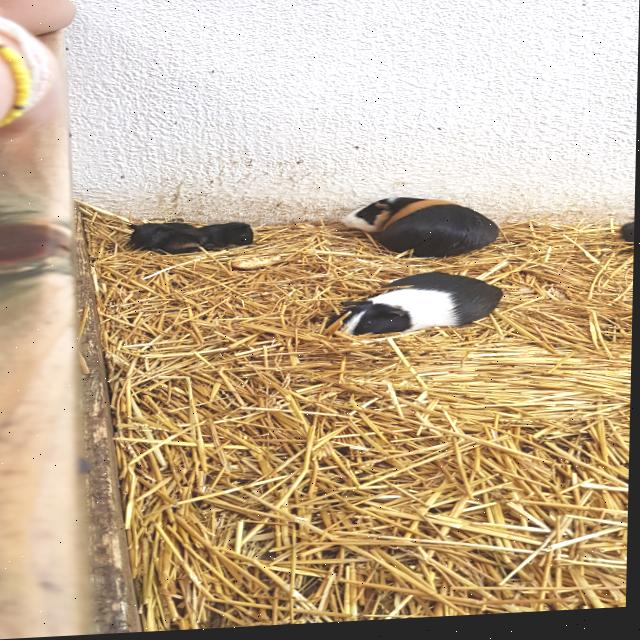guinea pig: (324, 271, 510, 344), (331, 195, 509, 270), (160, 222, 259, 259), (127, 222, 178, 251)
